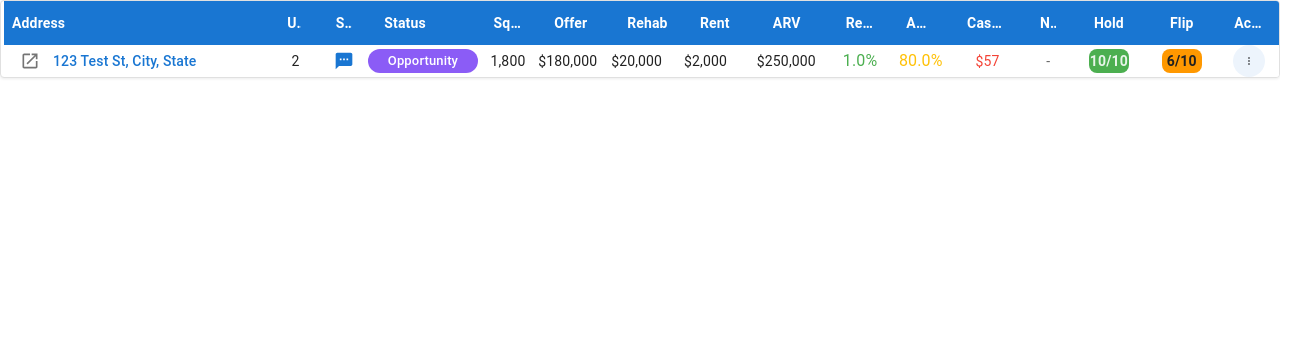
Test case: OpportunitiesTable › Navigation › should open actions menu when menu button is clicked
Click the button with test id "MoreVertIcon".
click(1249, 61)  # box top-left (1233, 45), bottom-right (1265, 77)
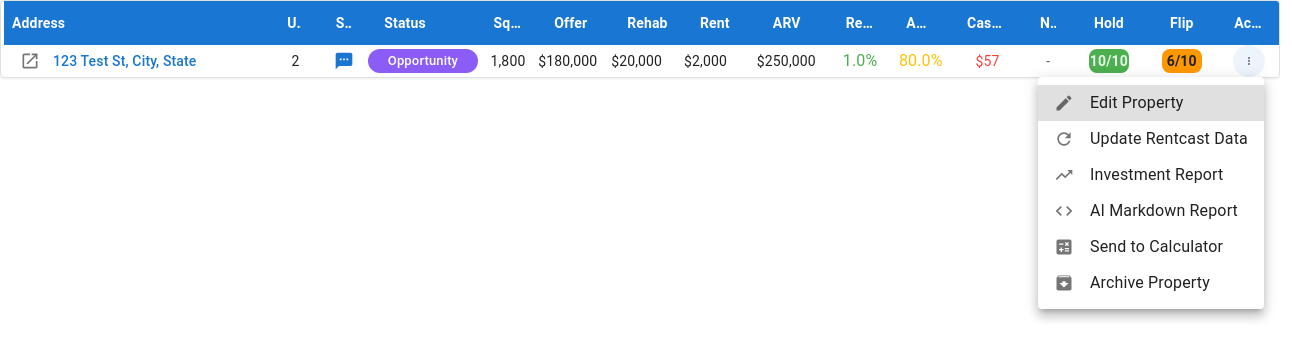
Expected: the text "Edit Property" is shown, top-left (1090, 93), bottom-right (1184, 112)
Expected: the text "Archive Property" is shown, top-left (1090, 273), bottom-right (1210, 292)
Expected: the text "Send to Calculator" is shown, top-left (1090, 237), bottom-right (1223, 256)
